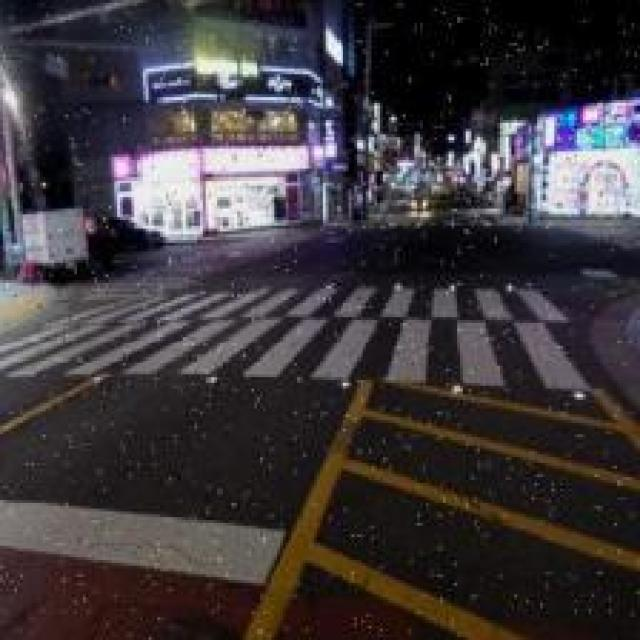walk-crossing: (29, 293, 594, 398)
